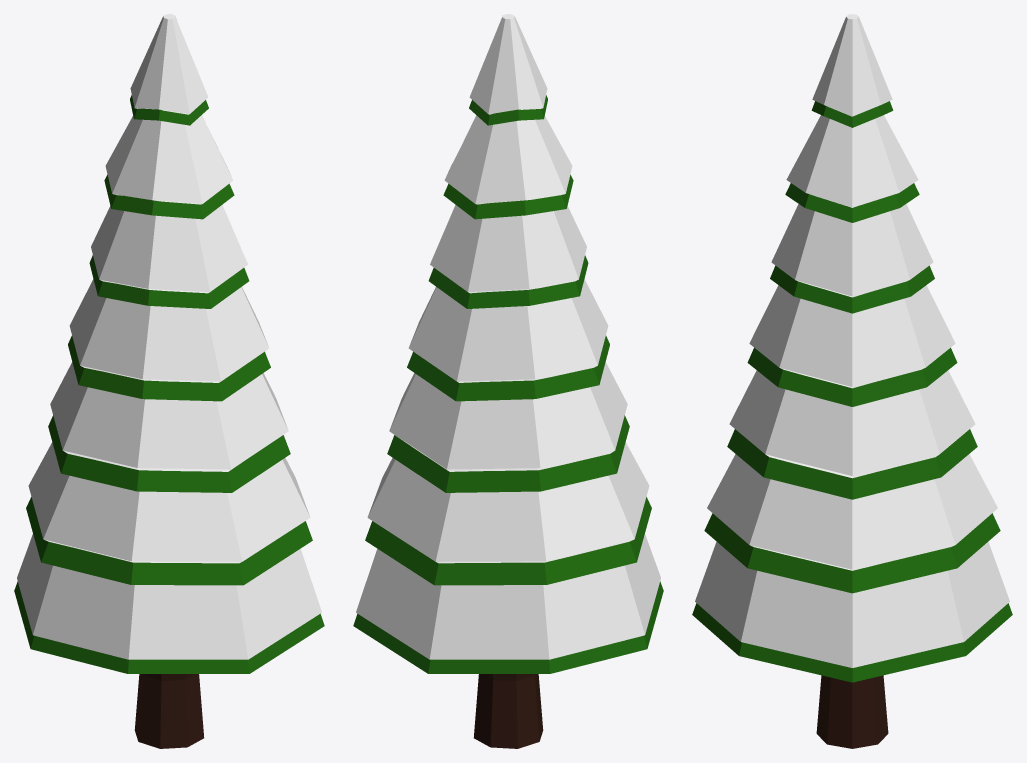
The model's file is Snow_Tree_0.fbx.
3 views of the same model, side by side, from view 1: azimuth 30°, elevation 25°; view 2: azimuth 150°, elevation 25°; view 3: azimuth 270°, elevation 25° (orthographic).
Visible parts, largest first — view 1: Snow_tree_0; view 2: Snow_tree_0; view 3: Snow_tree_0.
Boxes of the visible parts, x1,y1,x2,y2 form: Snow_tree_0: (14,14,324,748); Snow_tree_0: (353,14,663,748); Snow_tree_0: (692,14,1012,748).
Bounding box in the file's own units: 2.71 × 6.68 × 2.71.
Materials: 1 (1 with a texture image).
